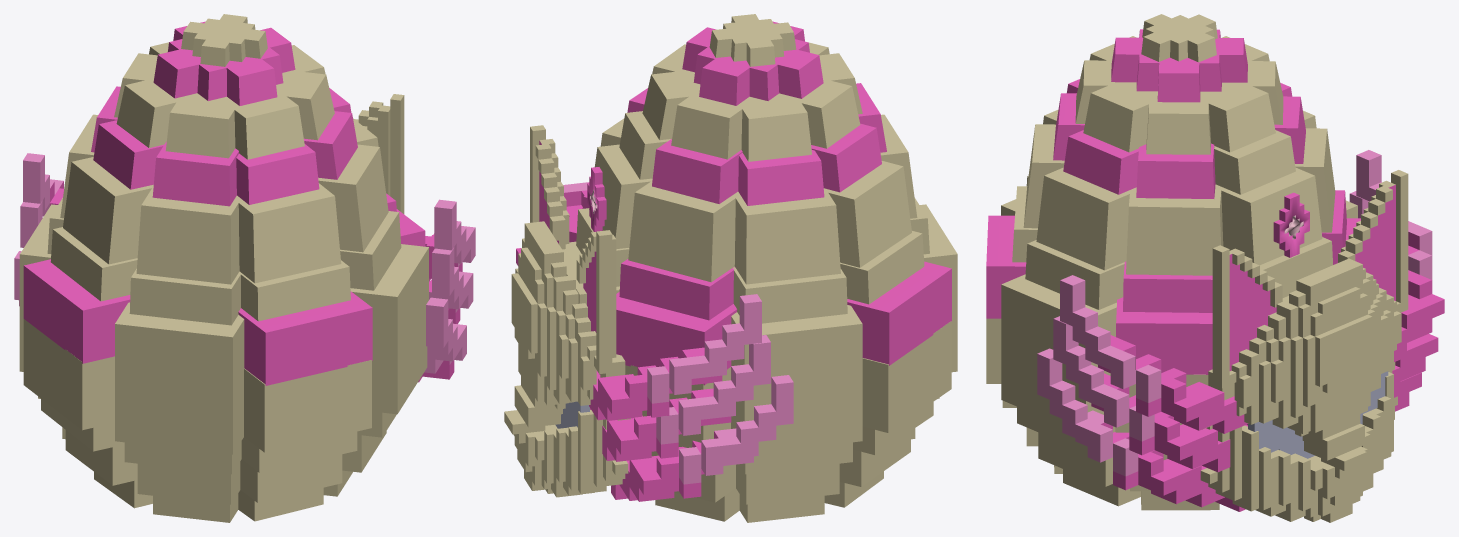
The model's file is egg_z04_03.glb.
The picture shows the model from 3 angles, left to right: view 1: azimuth 30°, elevation 25°; view 2: azimuth 150°, elevation 25°; view 3: azimuth 270°, elevation 25°; orthographic projection.
Parts seen in each view (by area): view 1: egg108; view 2: egg108; view 3: egg108.
Part boxes in pixels (<box>): egg108: <box>14,14,475,522</box>; egg108: <box>504,14,957,522</box>; egg108: <box>986,14,1444,522</box>.
Bounding box in the file's own units: 3.89 × 4 × 3.89.
5 materials, 5 textured.
